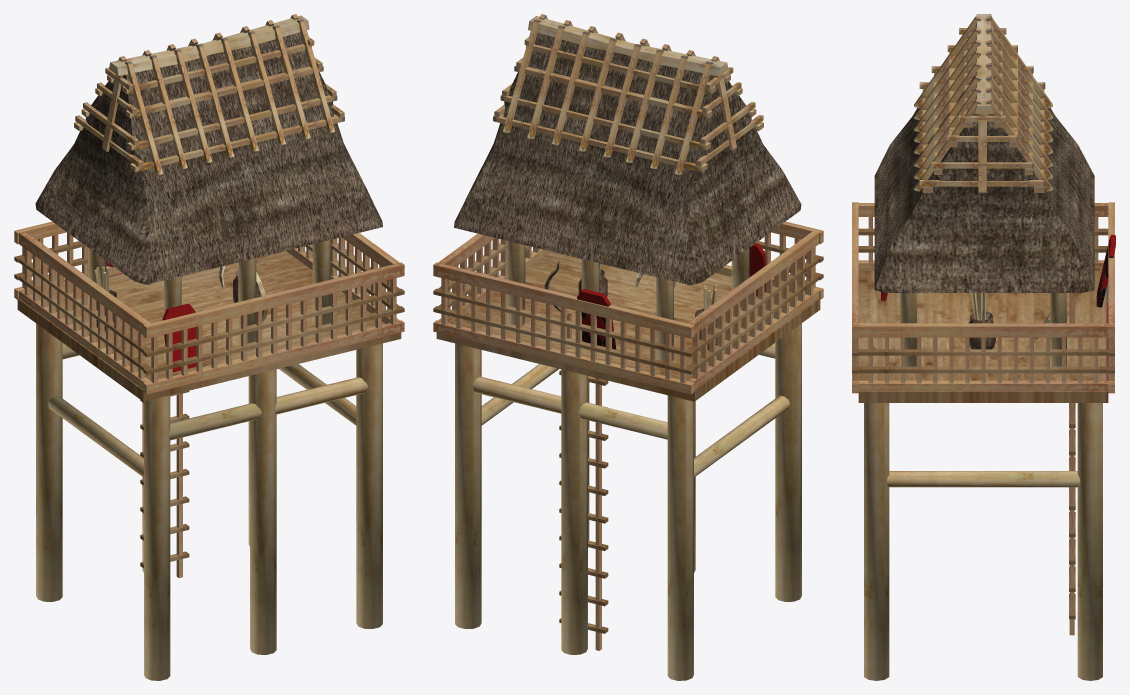
File: yayoi_tower_1.dae
3 renders of one model, left to right at view 1: azimuth 30°, elevation 25°; view 2: azimuth 150°, elevation 25°; view 3: azimuth 270°, elevation 25°, orthographic.
Visible parts, largest first — view 1: tower1; view 2: tower1; view 3: tower1.
Boxes of the visible parts, <box> form: tower1: <box>14,14,404,680</box>; tower1: <box>433,14,823,680</box>; tower1: <box>852,14,1115,680</box>.
Size of the model in its own units: 8.54 by 7.63 by 18.18.
